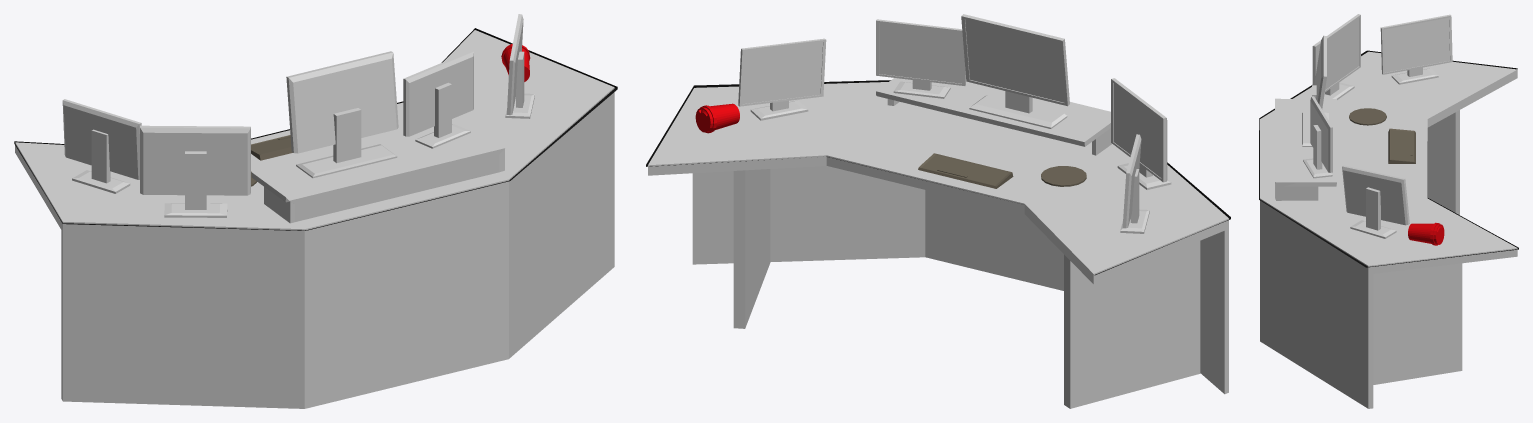
File: table2.fbx
3 renders of one model, left to right at view 1: azimuth 30°, elevation 25°; view 2: azimuth 150°, elevation 25°; view 3: azimuth 270°, elevation 25°, orthographic. The views are drawn at different scales.
Visible parts, largest first — view 1: Cube.003, Cube.010, Cube.009, Cube.011, Cube.008, Cube.007, Cube.006, Cube.012; view 2: Cube.003, Cube.004, Cube.010, Cube.008, Cube.007, Cube.005, Cube.009, Cube.012, Cube.011, Cylinder.001, Cube.006, Cylinder.003; view 3: Cube.003, Cube.005, Cube.011, Cube.007, Cube.004, Cube.009, Cube.008, Cube.010, Cube.012, Cube.006, Cylinder.001, Cylinder.003.
Boxes of the visible parts, bbox=[...] form: Cube.003: bbox=[15, 30, 614, 408]; Cube.010: bbox=[286, 51, 398, 178]; Cube.009: bbox=[140, 125, 250, 217]; Cube.011: bbox=[62, 99, 141, 193]; Cube.008: bbox=[403, 50, 473, 148]; Cube.007: bbox=[505, 14, 534, 118]; Cube.006: bbox=[14, 28, 617, 230]; Cube.012: bbox=[251, 135, 292, 160]; Cube.003: bbox=[648, 78, 1228, 394]; Cube.004: bbox=[1064, 241, 1200, 408]; Cube.010: bbox=[961, 14, 1069, 128]; Cube.008: bbox=[876, 19, 965, 98]; Cube.007: bbox=[738, 38, 826, 120]; Cube.005: bbox=[733, 169, 770, 328]; Cube.009: bbox=[1111, 78, 1171, 189]; Cube.012: bbox=[918, 153, 1013, 188]; Cube.011: bbox=[1120, 134, 1149, 233]; Cylinder.001: bbox=[695, 103, 739, 133]; Cube.006: bbox=[646, 80, 1230, 275]; Cylinder.003: bbox=[1041, 166, 1086, 186]; Cube.003: bbox=[1260, 51, 1517, 408]; Cube.005: bbox=[1373, 263, 1462, 384]; Cube.011: bbox=[1380, 14, 1452, 84]; Cube.007: bbox=[1342, 165, 1409, 238]; Cube.004: bbox=[1427, 110, 1459, 215]; Cube.009: bbox=[1310, 14, 1360, 99]; Cube.008: bbox=[1303, 96, 1332, 178]; Cube.010: bbox=[1302, 35, 1328, 146]; Cube.012: bbox=[1388, 128, 1415, 163]; Cube.006: bbox=[1259, 50, 1518, 267]; Cylinder.001: bbox=[1408, 222, 1444, 245]; Cylinder.003: bbox=[1349, 108, 1386, 125].
Size of the model in its own units: 268 by 137 by 137.
